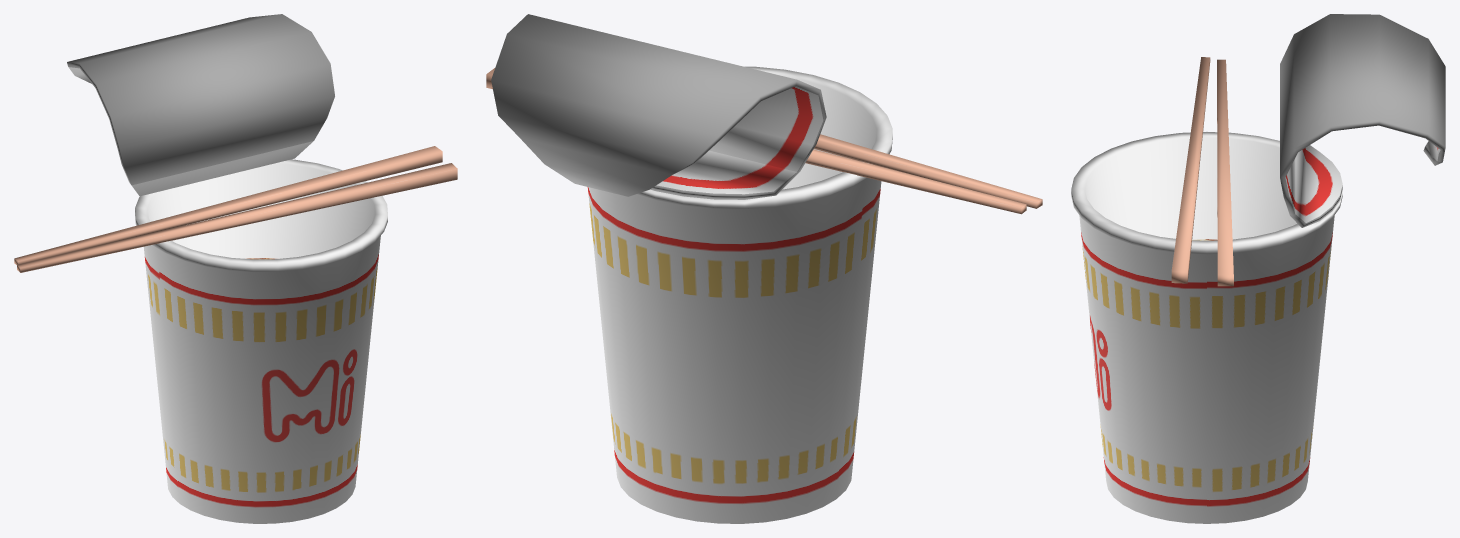
File: cup-noodle.glb
3 renders of one model, left to right at view 1: azimuth 30°, elevation 25°; view 2: azimuth 150°, elevation 25°; view 3: azimuth 270°, elevation 25°, orthographic. The views are drawn at different scales.
Parts seen in each view (by area): view 1: noodle; view 2: noodle; view 3: noodle.
Boxes of the visible parts, left/top/right/bottom form: noodle: left=14, top=14, right=457, bottom=523; noodle: left=486, top=14, right=1042, bottom=523; noodle: left=1071, top=14, right=1445, bottom=523.
Bounding box in the file's own units: 0.1882 × 0.1617 × 0.1326.
1 material, 1 textured.
